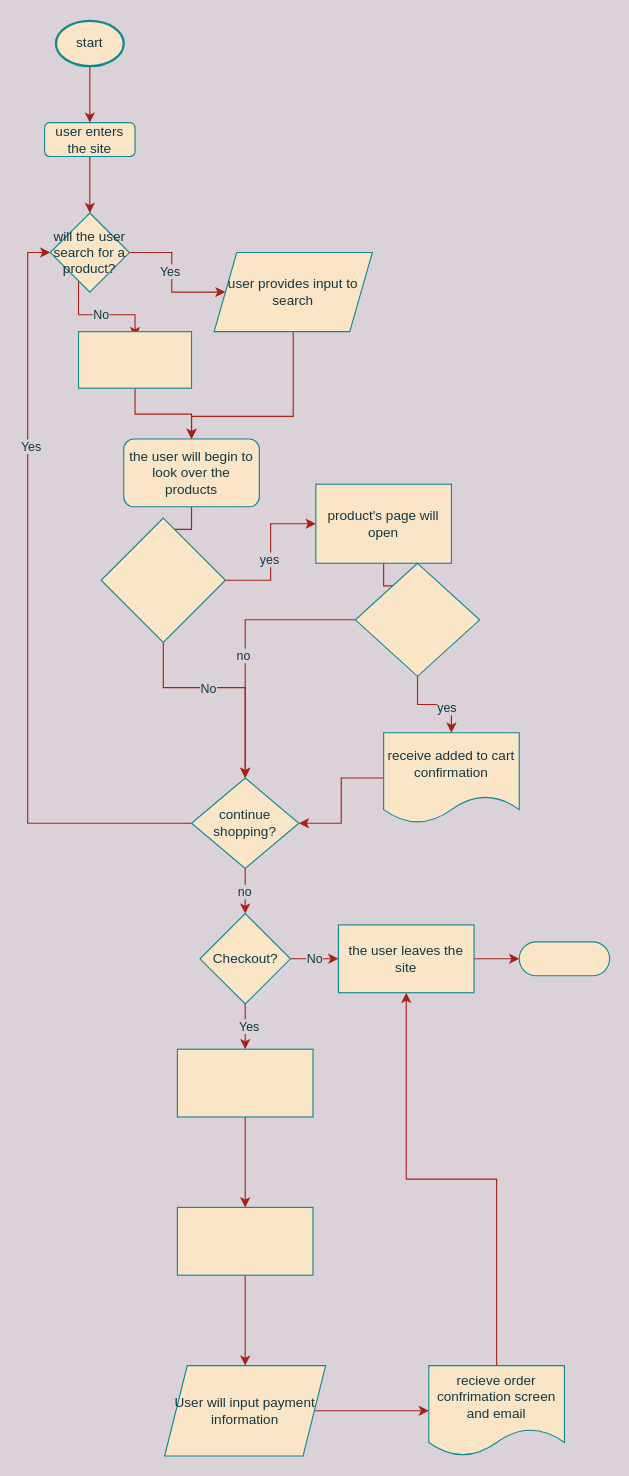
This 629x1476 diagram has some shape labels left out. Here are the shapes that lost their labels. From the top down, the box of each, then its label:
(77, 331, 192, 388): user looks on homepage
(100, 517, 225, 642): will user view product?
(354, 562, 480, 676): will they add things to their cart?
(518, 941, 610, 976): end
(176, 1048, 313, 1117): user is directed to view cart screen
(176, 1206, 313, 1275): user is directed to view payment screen
